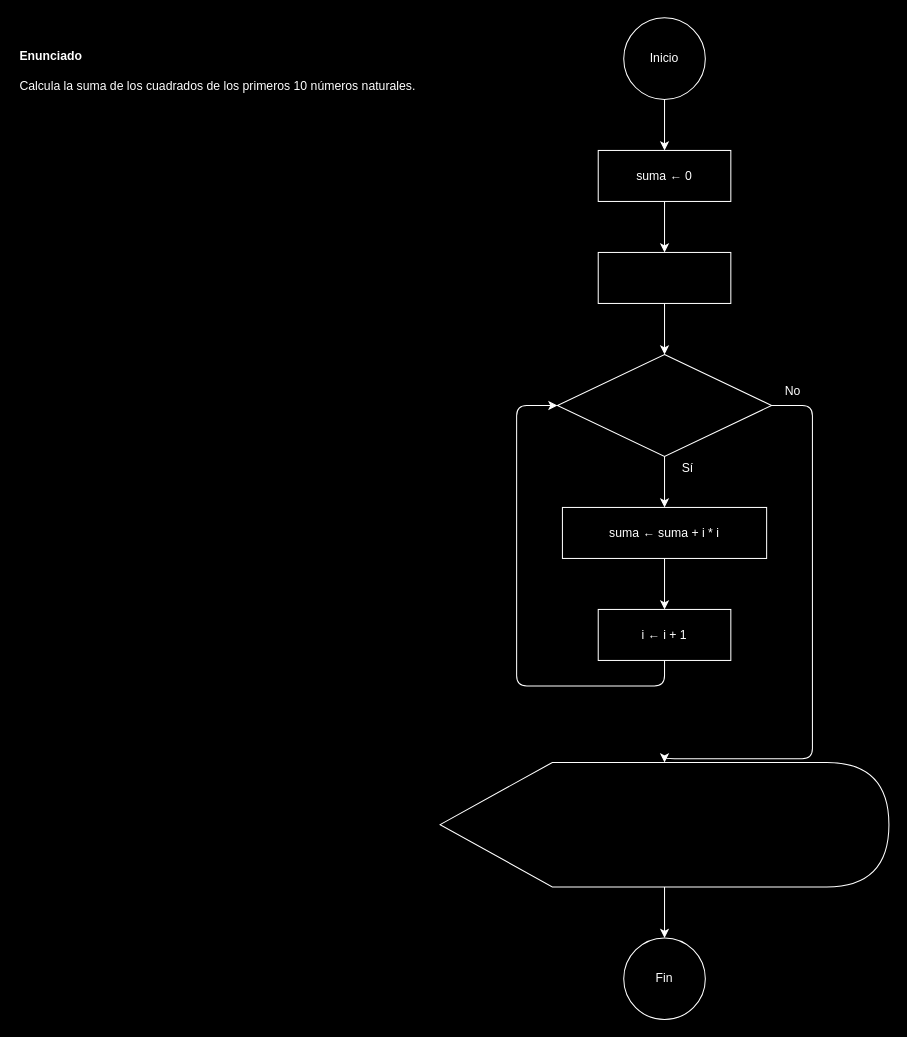
Some shapes in this 907 by 1037 pixel diagram are drawn without their labels. The shapes that lost their labels are listed below. From the top down, each one's centre as x and y in pixels, then its label:
point (664, 277): i ← 1
point (664, 404): ¿i <= 10?
point (664, 824): Escribir "La suma de los cuadrados es: ", suma
